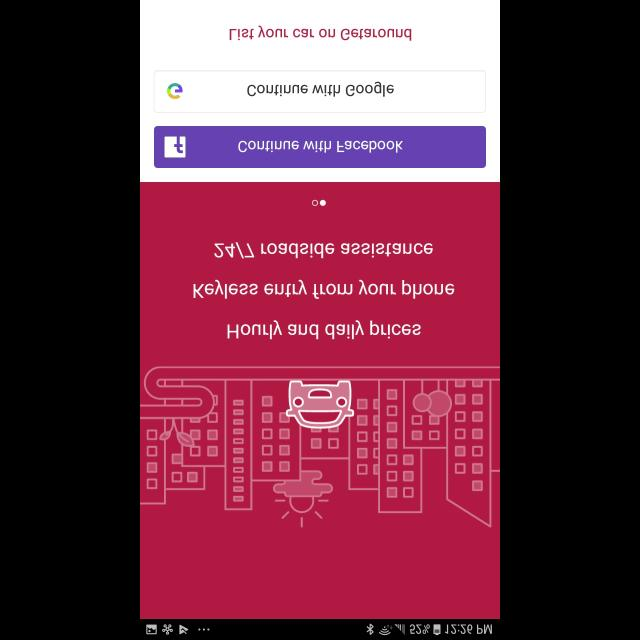image: (140, 364, 500, 528)
pageindicator: (312, 200, 326, 206)
text: (193, 279, 454, 299), (228, 320, 420, 340), (214, 242, 433, 258), (230, 25, 412, 41)
textbutton: (154, 70, 486, 112), (154, 126, 486, 168)
uppertaskbar: (140, 618, 500, 640)
